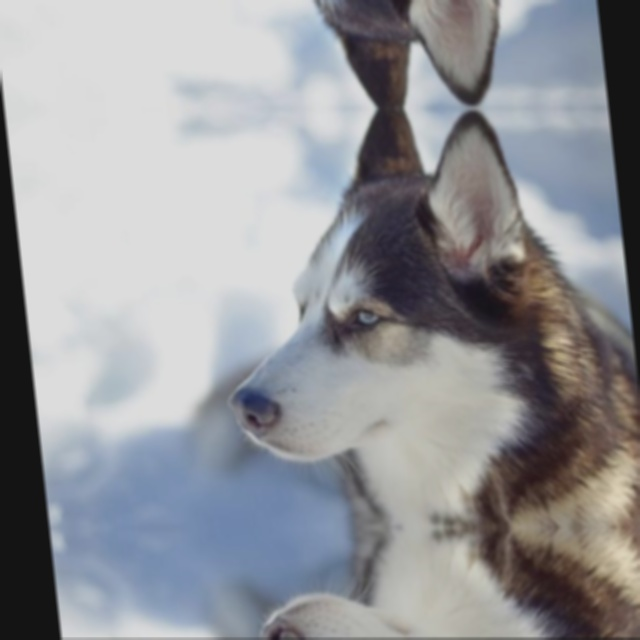dog: (201, 111, 640, 525), (246, 528, 640, 639), (189, 0, 608, 104)
